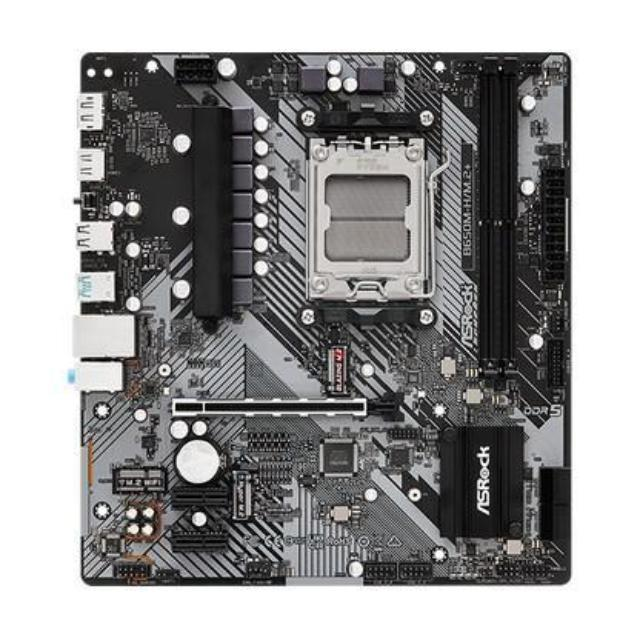Mainboard: (59, 39, 596, 606)
